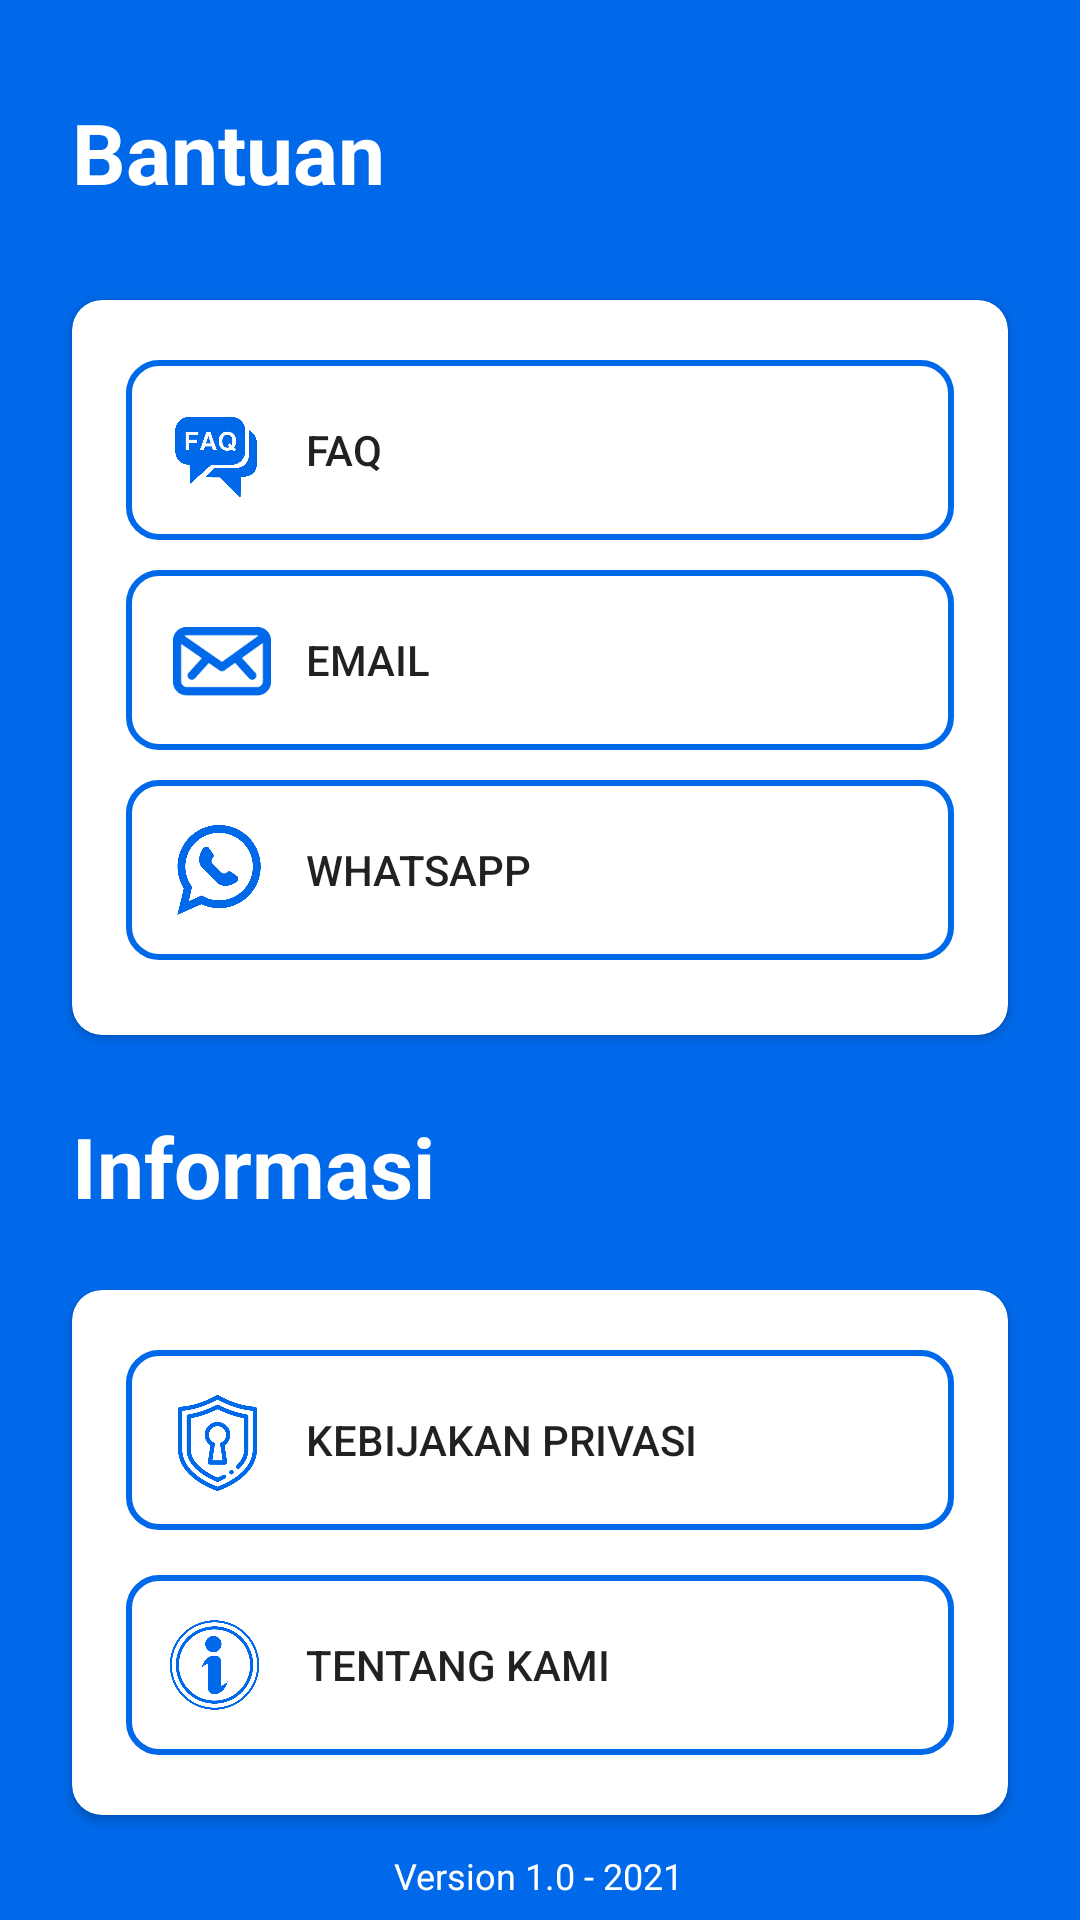

Locate icon controls on the screen. Image size 1080×1920, boxes as (x1, y1, x2, y2).
info: (170, 1620, 259, 1710)
keyhole: (178, 1395, 257, 1491)
